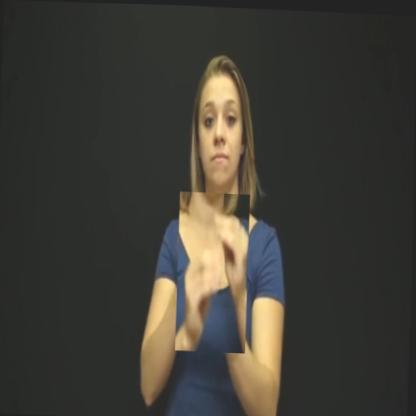Fix: (176, 190, 251, 351)
